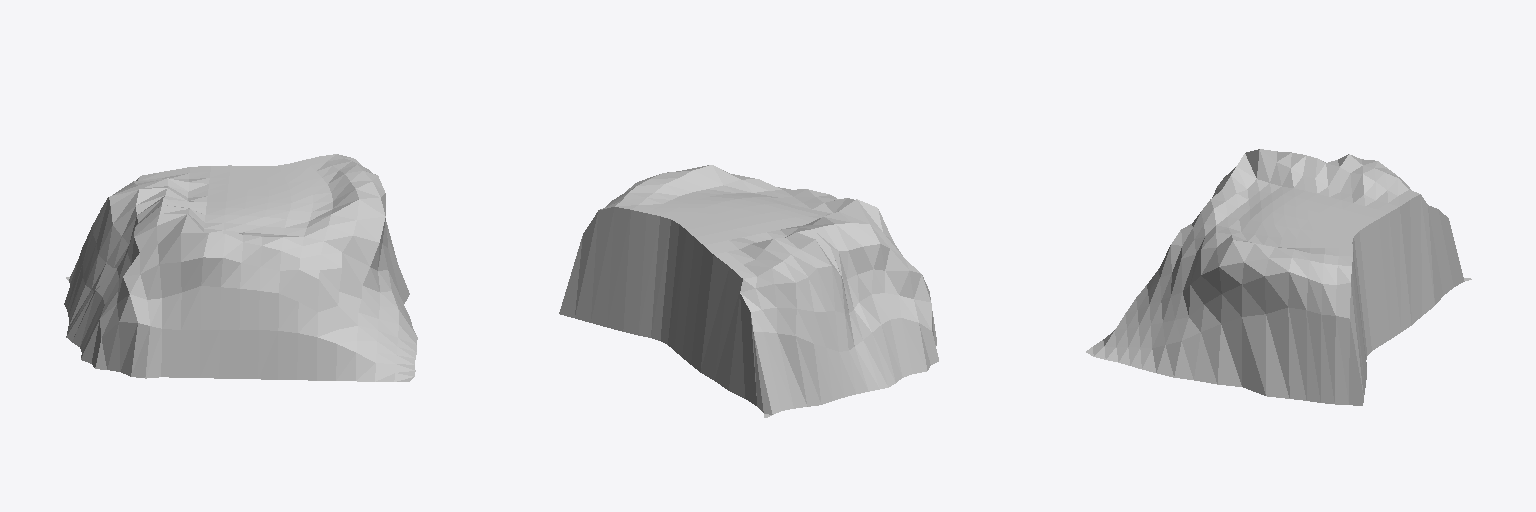
File: Platform3.obj
The picture shows the model from 3 angles: view 1: azimuth 30°, elevation 25°; view 2: azimuth 150°, elevation 25°; view 3: azimuth 270°, elevation 25°; orthographic projection.
Visible parts, largest first — view 1: Platform3; view 2: Platform3; view 3: Platform3.
Boxes of the visible parts, <box> form: Platform3: <box>64,154,417,381</box>; Platform3: <box>559,165,938,417</box>; Platform3: <box>1086,149,1471,405</box>.
Bounding box in the file's own units: 4456 × 1746 × 4487.